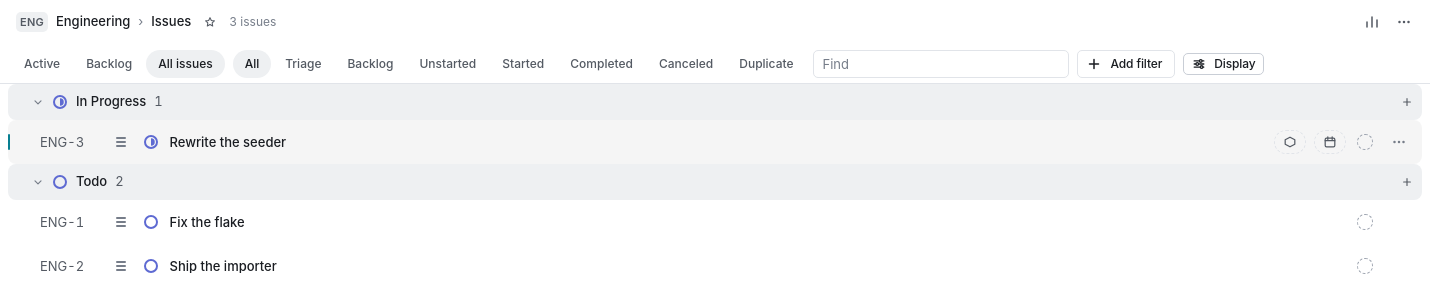
in-view find › filters by issue identifier
Type "ENG-3" into the field named "Find in list" at (942, 64), box [822,50,1060,76]
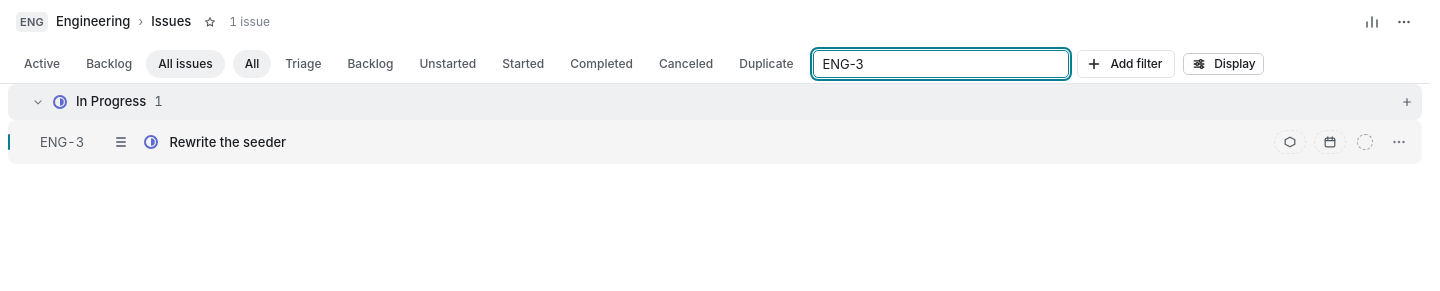
Expected: the text "Rewrite the seeder" is shown, [170,134,286,150]
Now the text "Fix the flake" is gone
